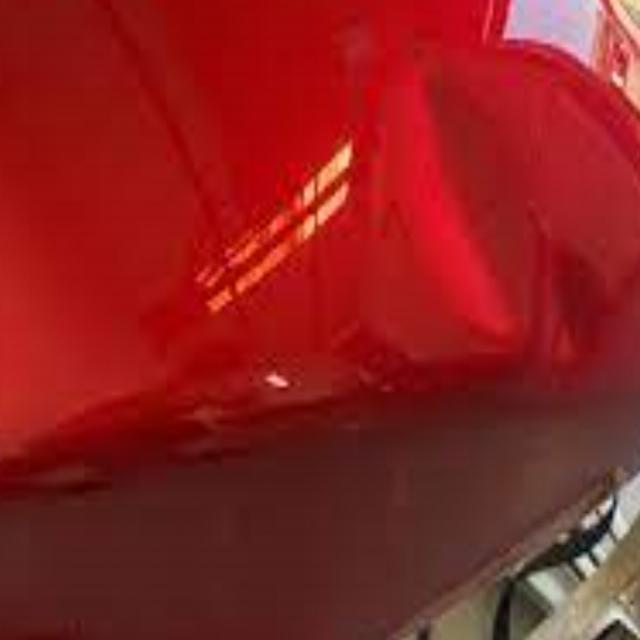dents: (378, 58, 590, 372)
